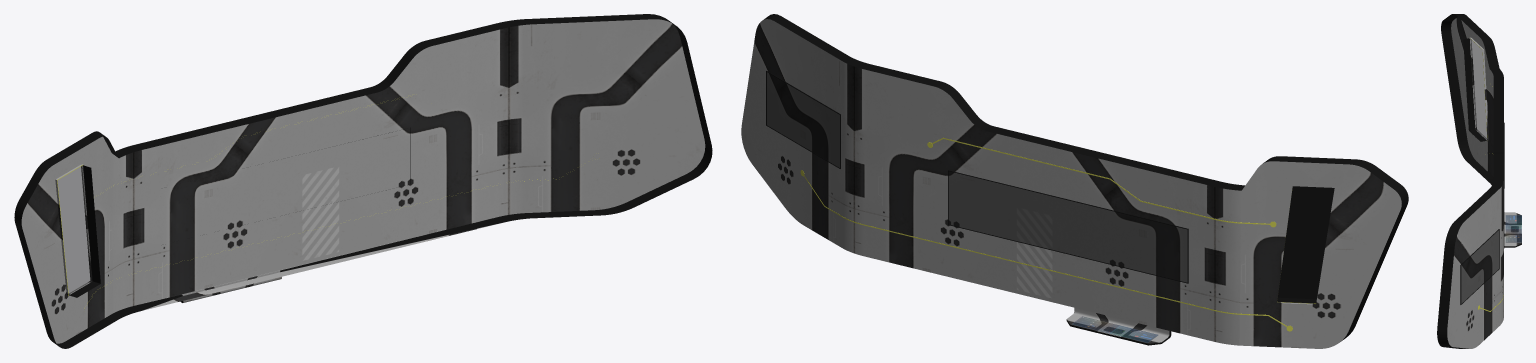
The model's file is EC_DisplayWallPanel01.FBX.
The picture shows the model from 3 angles, left to right: view 1: azimuth 30°, elevation 25°; view 2: azimuth 150°, elevation 25°; view 3: azimuth 270°, elevation 25°; orthographic projection. The views are drawn at different scales.
Visible parts, largest first — view 1: EC_DisplayWallPanel01, EC_DisplayWallPanel01_Glass03; view 2: EC_DisplayWallPanel01, EC_DisplayWallPanel01_Glass02, EC_DisplayWallPanel01_Glass03, EC_DisplayWallPanel01_Glass01, EC_DisplayWallPanel01_UI; view 3: EC_DisplayWallPanel01, EC_DisplayWallPanel01_Glass01, EC_DisplayWallPanel01_Glass03, EC_DisplayWallPanel01_UI.
Boxes of the visible parts, x1=… form: EC_DisplayWallPanel01: x1=14, y1=14, x2=712, y2=348; EC_DisplayWallPanel01_Glass03: x1=57, y1=166, x2=91, y2=293; EC_DisplayWallPanel01: x1=741, y1=14, x2=1408, y2=348; EC_DisplayWallPanel01_Glass02: x1=948, y1=171, x2=1187, y2=282; EC_DisplayWallPanel01_Glass03: x1=1277, y1=186, x2=1334, y2=303; EC_DisplayWallPanel01_Glass01: x1=766, y1=72, x2=839, y2=167; EC_DisplayWallPanel01_UI: x1=1071, y1=316, x2=1158, y2=342; EC_DisplayWallPanel01: x1=1437, y1=14, x2=1521, y2=348; EC_DisplayWallPanel01_Glass01: x1=1461, y1=230, x2=1498, y2=303; EC_DisplayWallPanel01_Glass03: x1=1470, y1=39, x2=1487, y2=139; EC_DisplayWallPanel01_UI: x1=1505, y1=215, x2=1521, y2=242.
Size of the model in its own units: 8190 by 2298 by 1236.
Materials: 5 (2 with a texture image).
